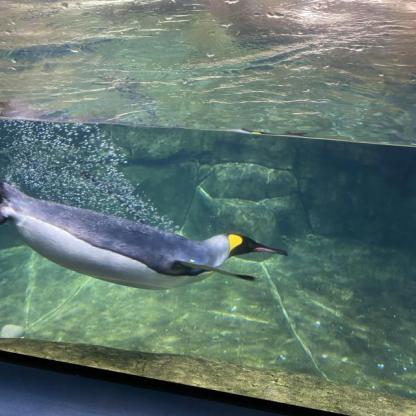penguin: (0, 182, 288, 292)
